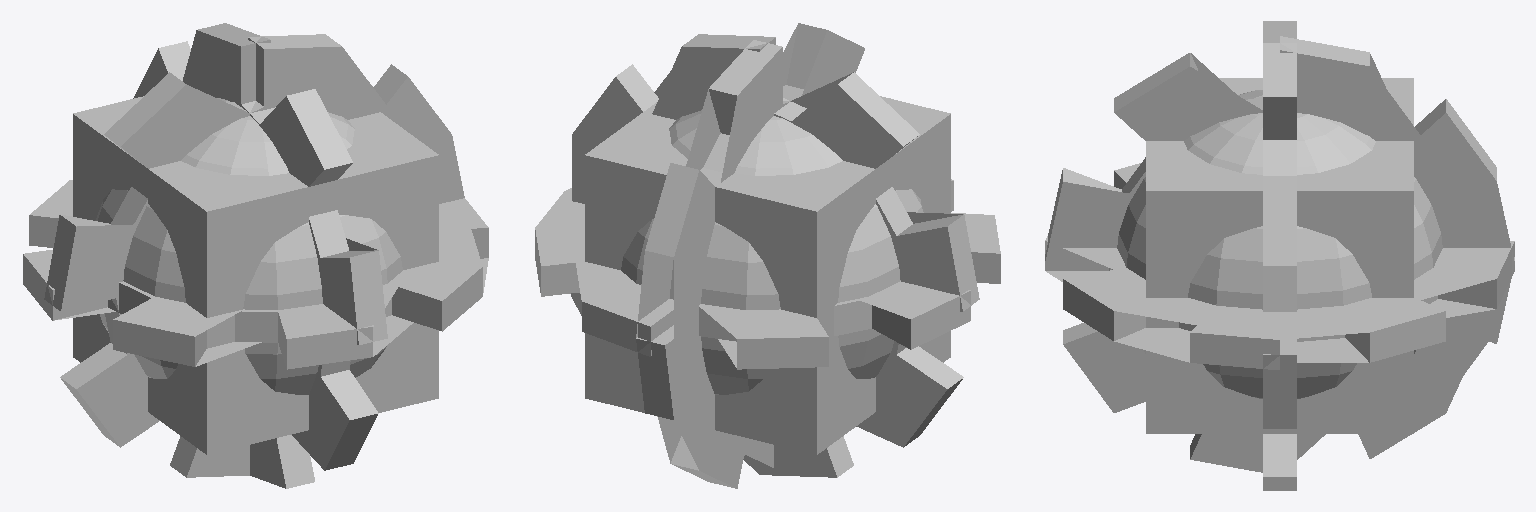
Rendered from gyroscopecore.obj.
The picture shows the model from 3 angles: view 1: azimuth 30°, elevation 25°; view 2: azimuth 150°, elevation 25°; view 3: azimuth 270°, elevation 25°; orthographic projection.
Parts seen in each view (by area): view 1: sphere1; view 2: sphere1; view 3: sphere1.
Boxes of the visible parts, x1=… form: sphere1: x1=23, y1=23, x2=488, y2=488; sphere1: x1=535, y1=23, x2=1000, y2=488; sphere1: x1=1045, y1=21, x2=1514, y2=490.
Bounding box in the file's own units: 1.4 × 1.4 × 1.4.